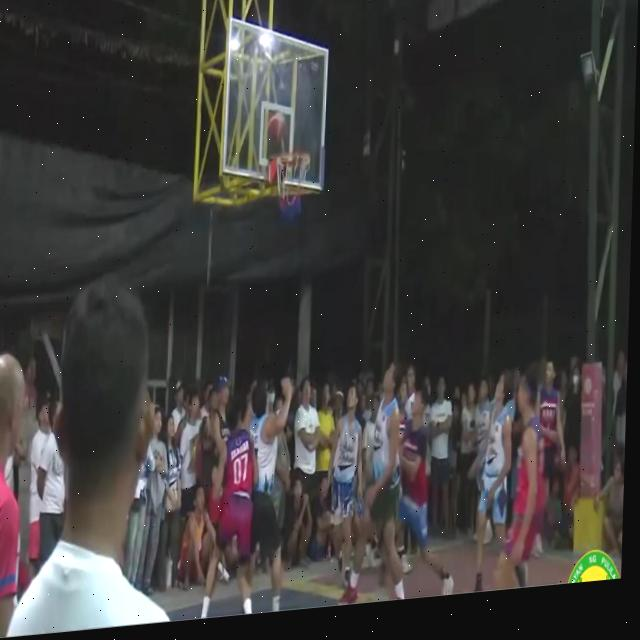basketball: (267, 105, 289, 153)
hoop: (272, 144, 314, 233)
